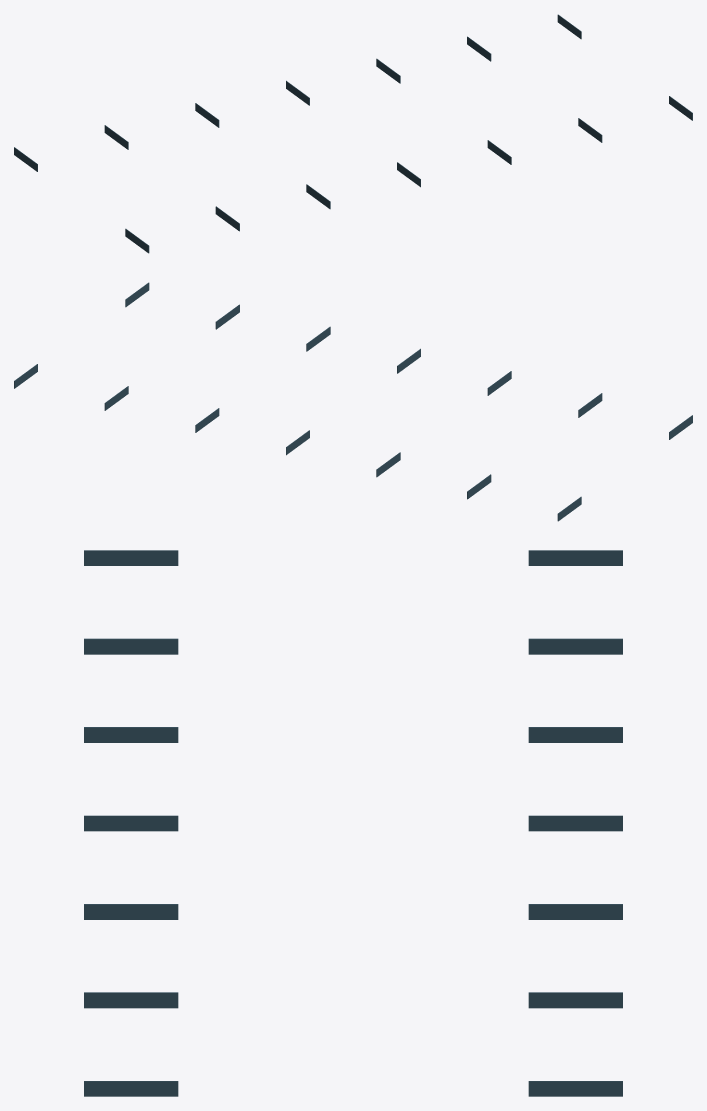
Rendered from SM_DK_09_Paddock_transporters_tents_and_service_equipment_glass.fbx.
3 renders of one model, top to bottom at view 1: azimuth 30°, elevation 25°; view 2: azimuth 150°, elevation 25°; view 3: azimuth 270°, elevation 25°, orthographic. The views are drawn at different scales.
Visible parts, largest first — view 1: 09 Paddock transporters tents and service equipment | glass; view 2: 09 Paddock transporters tents and service equipment | glass; view 3: 09 Paddock transporters tents and service equipment | glass.
Part boxes in pixels (x1,y1,x2,y2): 09 Paddock transporters tents and service equipment | glass: (14,14,692,253); 09 Paddock transporters tents and service equipment | glass: (14,282,692,521); 09 Paddock transporters tents and service equipment | glass: (84,550,622,1096).
Size of the model in its own units: 4805 by 2060 by 65.
